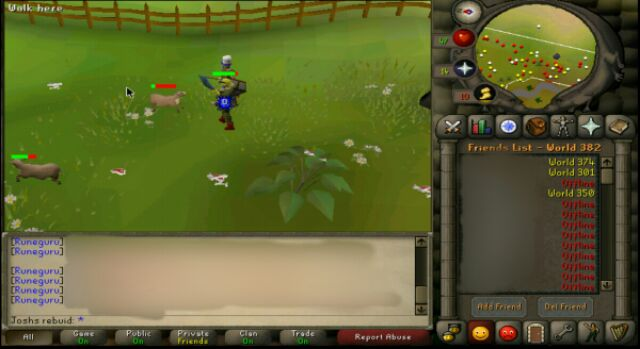rs_cow: (10, 160, 62, 182), (148, 87, 188, 113)
rs_healthbar: (210, 69, 239, 77), (148, 82, 176, 88), (11, 154, 39, 160)
rs_player: (207, 54, 243, 129)
